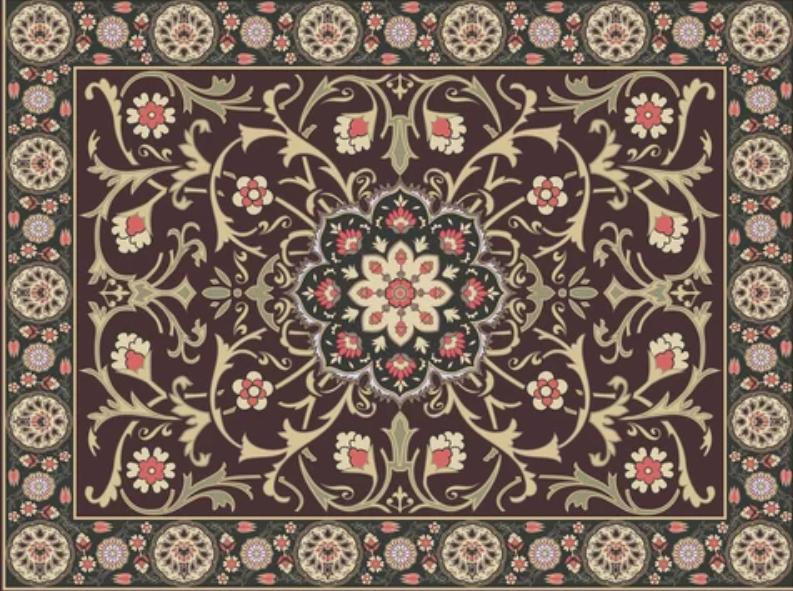carpet: (0, 0, 793, 585)
